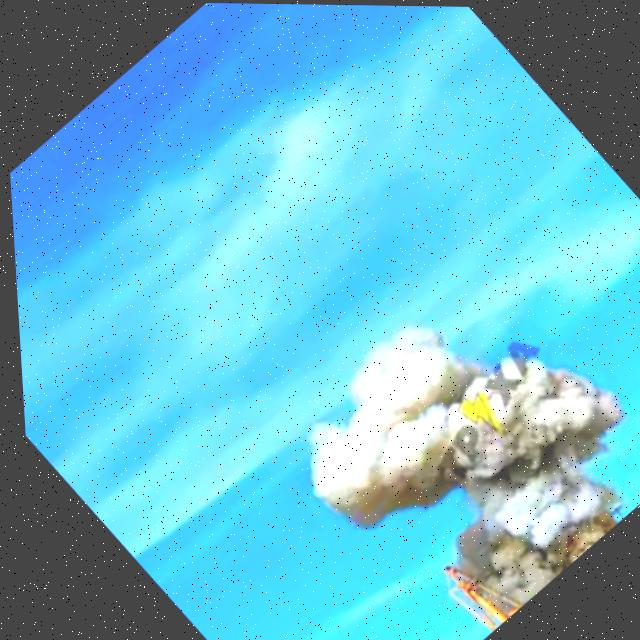Smoke: (248, 242, 640, 640)
